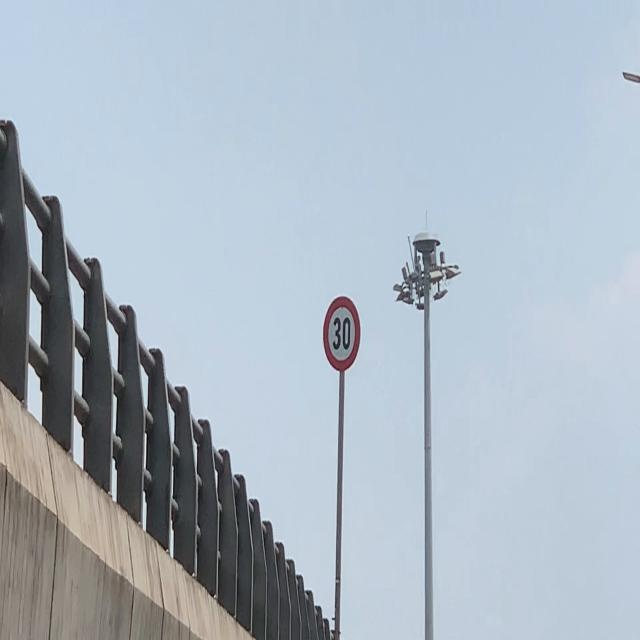bien_cam: (323, 296, 361, 372)
